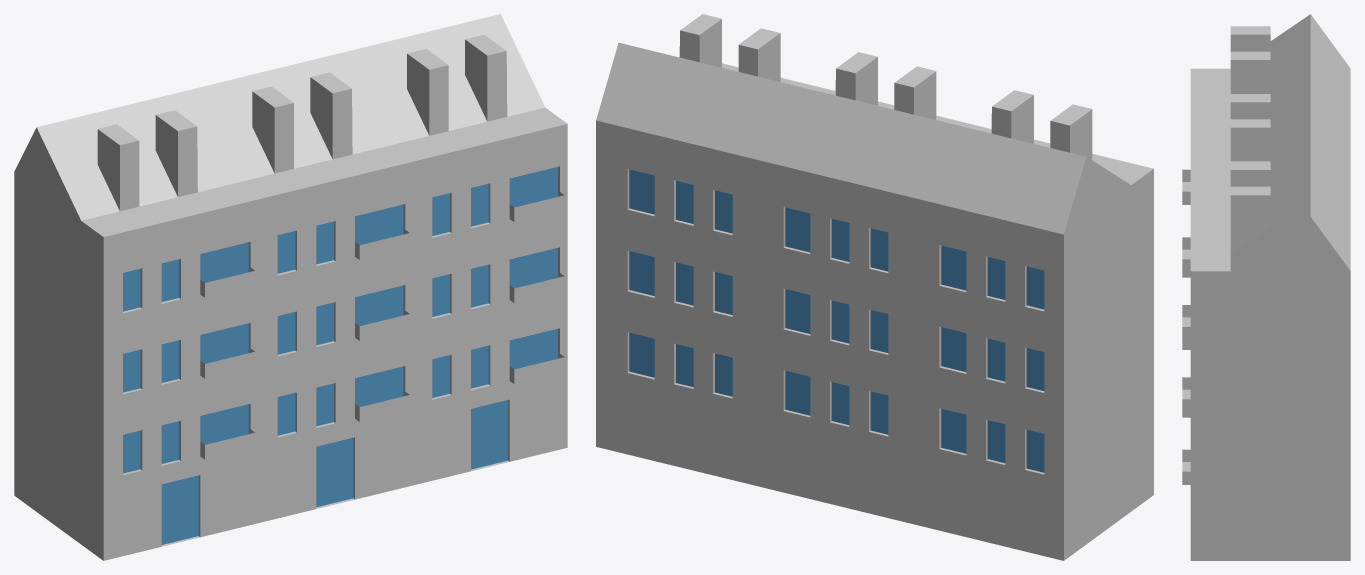
Rendered from BudynekNr2.fbx.
3 renders of one model, left to right at view 1: azimuth 30°, elevation 25°; view 2: azimuth 150°, elevation 25°; view 3: azimuth 270°, elevation 25°, orthographic. The views are drawn at different scales.
Visible parts, largest first — view 1: BudynekNr2; view 2: BudynekNr2; view 3: BudynekNr2.
Part boxes in pixels (bbox=[...]): BudynekNr2: bbox=[14, 14, 567, 560]; BudynekNr2: bbox=[596, 14, 1153, 560]; BudynekNr2: bbox=[1182, 14, 1350, 560].
Size of the model in its own units: 300 by 241 by 105.
